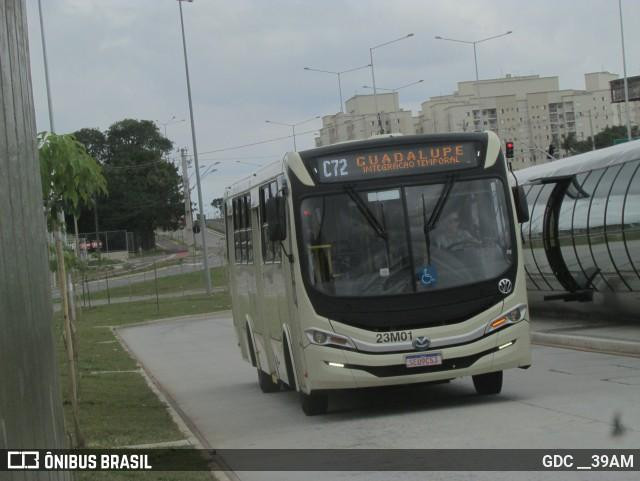GUADALUPE: (351, 143, 468, 171)
